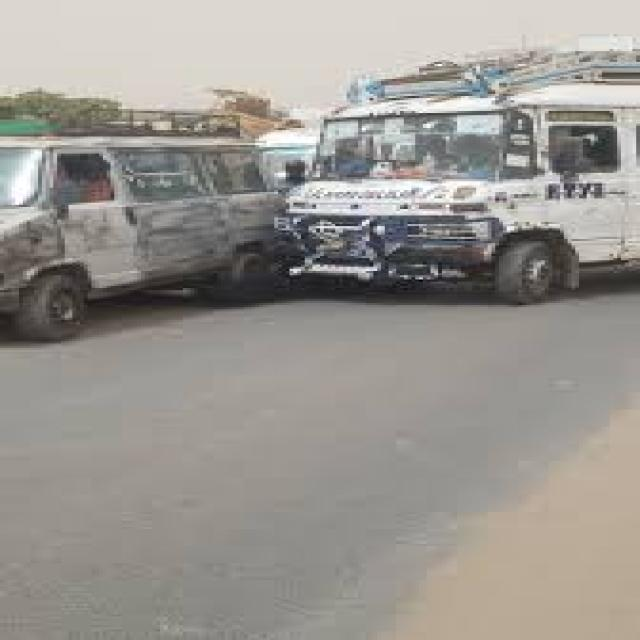ndiaga ndiaye: (278, 54, 639, 305), (1, 139, 282, 341)
